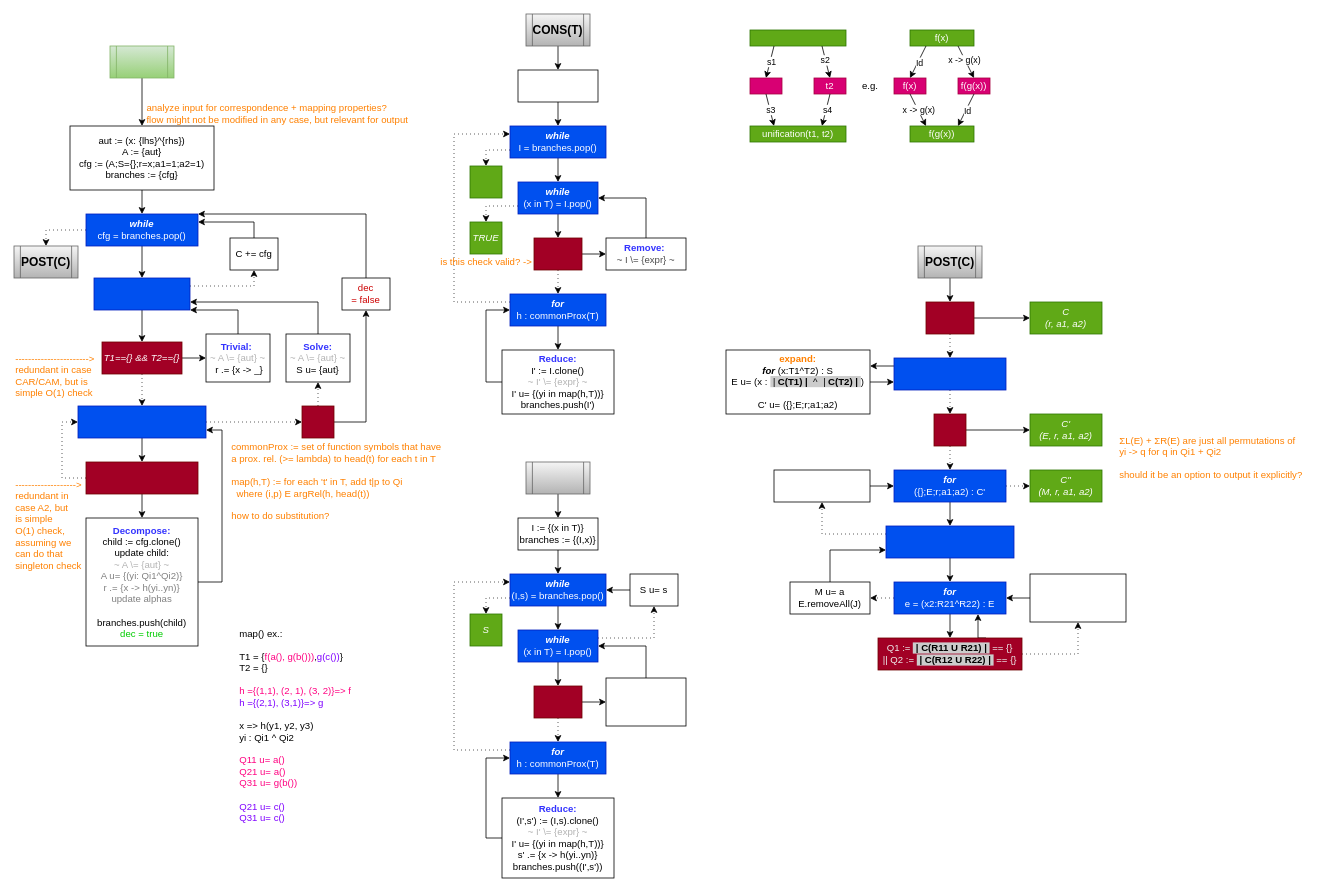
Image size: 1332x892. Some labels were removed from this diagram. The centre of each missing label's shape, as x and y in pixels:
"C (T)" goes at point (557, 477).
"C'' u= ({};M;r;a1;a2)" goes at point (821, 485).
"dec" goes at point (317, 421).
"FALSE" goes at point (485, 181).
"for ({};S;r;a1;a2) : C" goes at point (949, 373).
"for h : commonProx(T1 U T2)" goes at point (141, 421).
"for Qij : map(h, Tj) | CONS(Qij) |" goes at point (141, 477).
"generalization(t1, t2)" goes at point (797, 37).
"I := {(x in T)} branches := {I}" goes at point (557, 85).
"lin" goes at point (949, 429).
"lin && !witness" goes at point (949, 317).
"Merge: a := (y:Q1^Q2) r .= {x1 -> y, x2 -> y} J u= e" goes at point (1077, 597).
"Remove: ~ I \= {expr} ~ s .= {x -> _}" goes at point (645, 701).
"START" goes at point (141, 61).
"T == {}" goes at point (557, 701).
"T == {} || T == {t1}" goes at point (557, 253).
"t1" goes at point (765, 85).
"while (x:T1^T2) = A.pop()" goes at point (141, 293).
"while a = (x1:R11^R12) := E.pop()" goes at point (949, 541).
